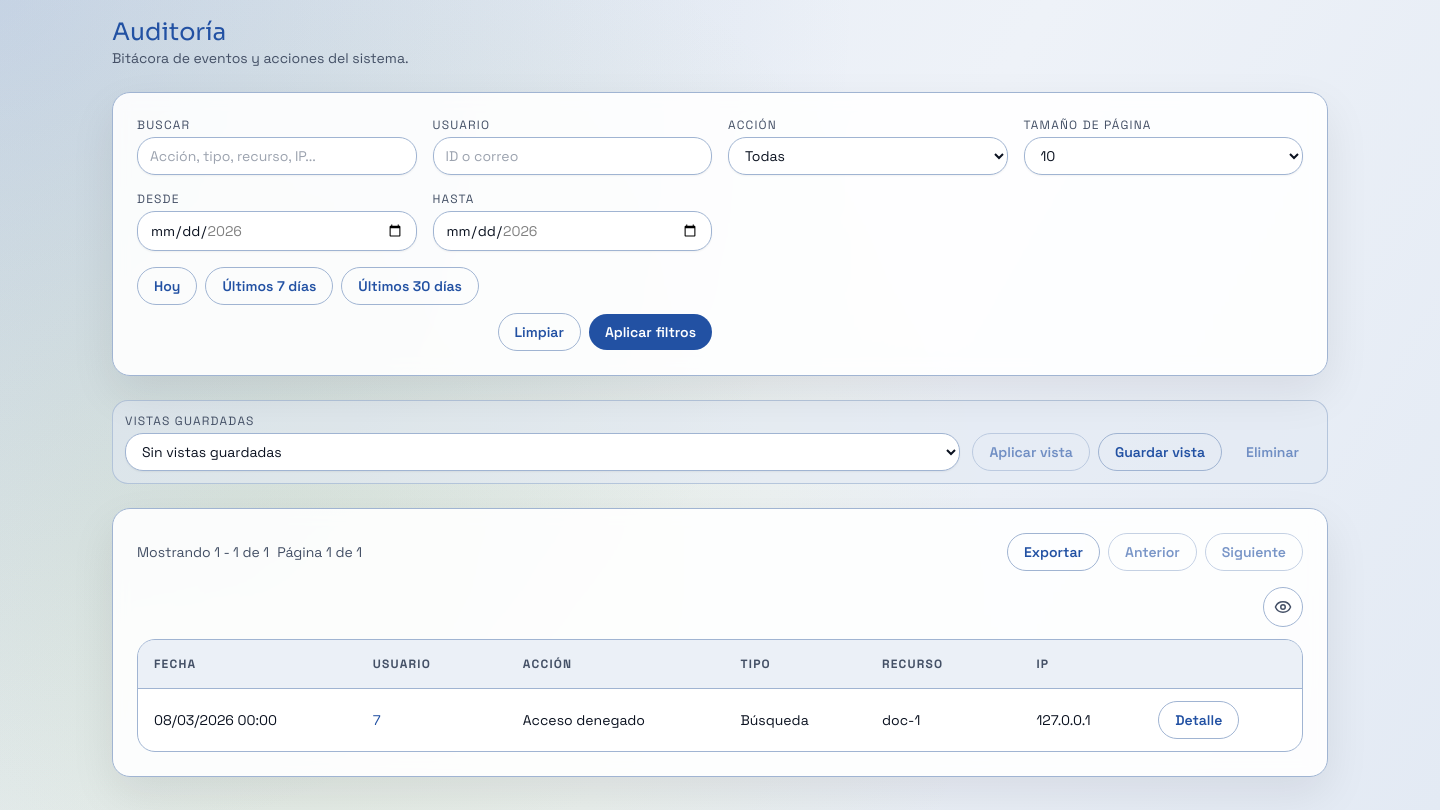
Test: AuditLogsPage › abre el detalle del evento con metadatos traducidos
The image size is (1440, 810).
Expected: the text "doc-1" is shown, [866,688,1020,751]
Click the button "Detalle": (1199, 720) [1158,701,1239,739]
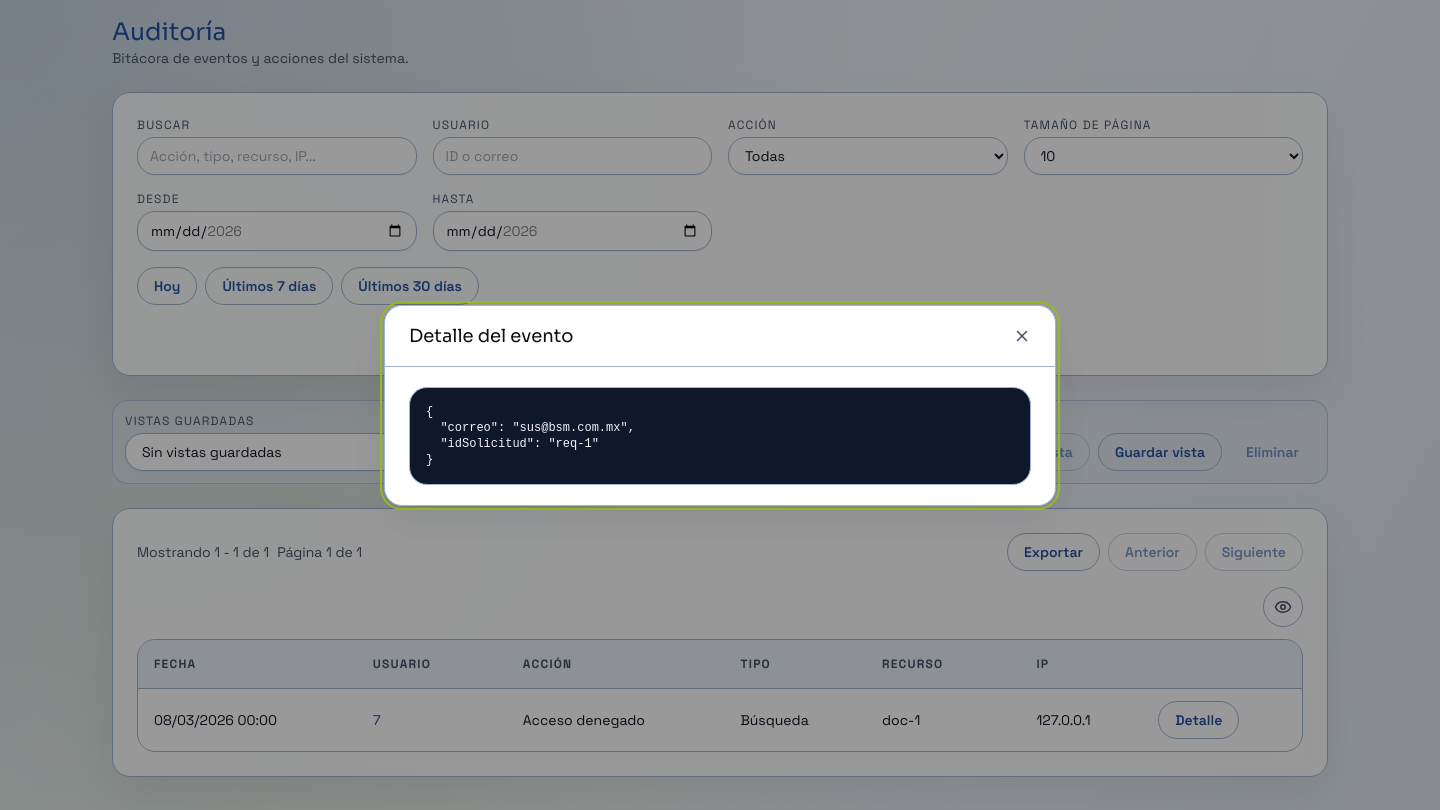
Expected: the text "Detalle del evento" is shown, [409,322,574,350]
Expected: the text "{ \"correo\": \"sus@bsm.com.mx\", \"idSolicitud\": \"req-1\" }" is shown, [409,386,1031,484]
